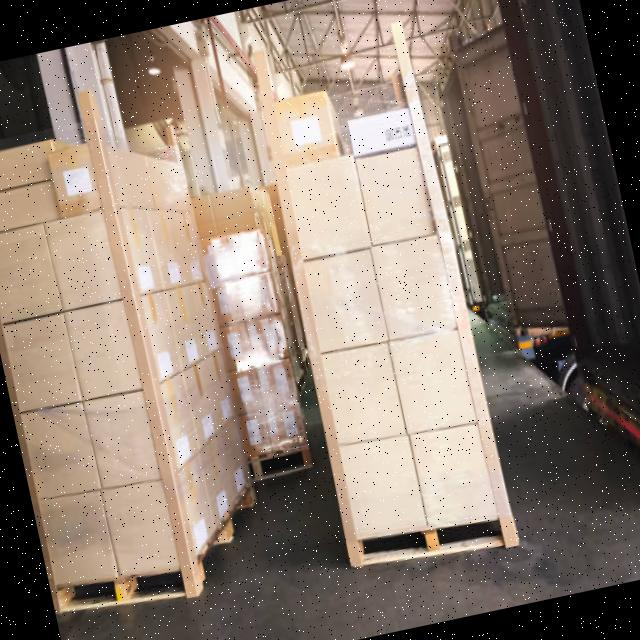Wooden-Pallets: (50, 478, 256, 625), (345, 509, 513, 581)
